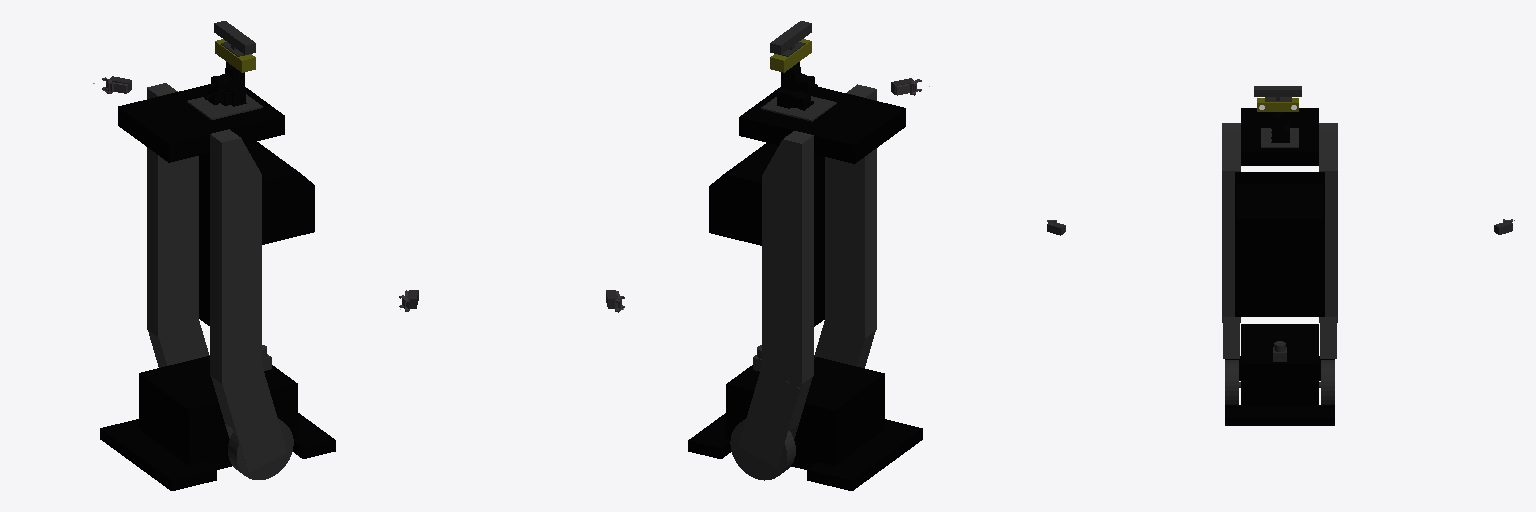
--- Facts derived from the render (not from the file) ---
The picture shows the robot from 3 angles, left to right: view 1: azimuth 30°, elevation 25°; view 2: azimuth 150°, elevation 25°; view 3: azimuth 270°, elevation 25°; orthographic projection.
Robot: phoebe — 38 links, 37 joints (16 revolute, 2 continuous, 4 prismatic, 15 fixed); root link base_link; default pose: every joint at zero.
Links seen in each view (by area): view 1: base_link, wheel_right, xtion_link, ptu_base_plate_link, bumblebee_link, ptu_tilt_link, ptu_pan_link; view 2: base_link, wheel_left, xtion_link, ptu_base_plate_link, bumblebee_link, ptu_tilt_link, ptu_pan_link; view 3: base_link, xtion_link, wheel_left, wheel_right.
Link boxes in pixels (x1,y1,x2,y2): base_link: (100, 83, 335, 490); wheel_right: (228, 419, 293, 479); xtion_link: (214, 21, 255, 56); ptu_base_plate_link: (187, 94, 262, 119); bumblebee_link: (215, 39, 255, 72); ptu_tilt_link: (208, 65, 244, 94); ptu_pan_link: (204, 87, 246, 106); base_link: (688, 84, 922, 490); wheel_left: (730, 419, 795, 480); xtion_link: (770, 21, 811, 56); ptu_base_plate_link: (761, 96, 836, 121); bumblebee_link: (770, 39, 811, 72); ptu_tilt_link: (781, 64, 817, 93); ptu_pan_link: (777, 88, 813, 110); base_link: (1222, 108, 1337, 425); xtion_link: (1254, 86, 1301, 101); wheel_left: (1321, 360, 1334, 404); wheel_right: (1225, 360, 1238, 404).
Bounding box of the posed robot: 0.546 × 1.77 × 1.33 m (x, y, z).
Meshes: 15 distinct files referenced, 6 mesh visuals loaded (5 Collada DAE); not drawn: 20 (reference not matched to a file when rendering).

The robot description file, URDF, robot "phoebe":
<?xml version="1.0" ?>
<!-- =================================================================================== -->
<!-- |    This document was autogenerated by xacro from [local-path]/catkin_ws/src/phoebe_stack/phoebe_description/phoebe.urdf.xacro | -->
<!-- |    EDITING THIS FILE BY HAND IS NOT RECOMMENDED                                 | -->
<!-- =================================================================================== -->
<robot name="phoebe" xmlns:xacro="http://www.ros.org/wiki/xacro">
  
  <link name="base_link">
    <inertial>
      <origin rpy="0 0 0" xyz="-0.04 0 0.56"/>
      <mass value="12"/>
      <!-- inretia tensor for solid cuboid: m=12, h=1.12, d=0.49, w=0.41 -->
      <inertia ixx="1.4225" ixy="0" ixz="0" iyy="1.4945" iyz="0" izz="0.4082"/>
    </inertial>
    <visual>
      <origin rpy="0 0 0" xyz="0 0 0"/>
      <geometry>
        <mesh filename="package://phoebe_description/meshes/phoebe.dae"/>
      </geometry>
    </visual>
    <collision>
      <origin rpy="0 0 0" xyz="0 0 0"/>
      <geometry>
        <mesh filename="package://phoebe_description/meshes/phoebe.dae"/>
      </geometry>
    </collision>
  </link>

  <joint name="wheel_left_joint" type="continuous">
    <parent link="base_link"/>
    <child link="wheel_left"/>
    <origin rpy="1.570796 0 0" xyz="0.0 0.18 0.095"/>
    <axis xyz="0 0 1"/>
  </joint>
  <link name="wheel_left">
    <inertial>
      <origin rpy="0 0 0" xyz="0.0 0 0"/>
      <mass value="0.5"/>
      <!-- inretia tensor for solid cylinder: m=0.5, h=0.05, r=0.095 -->
      <inertia ixx="1.232291667e-03" ixy="0" ixz="0" iyy="1.232291667e-03" iyz="0" izz="2.25625e-03"/>
    </inertial>
    <visual>
      <origin rpy="0 0 0" xyz="0 0 0"/>
      <geometry>
        <cylinder length="0.05" radius="0.095"/>
      </geometry>
      <material name="blackish">
        <color rgba="0.2 0.2 0.2 1"/>
      </material>
    </visual>
    <collision>
      <origin rpy="0 0 0" xyz="0 0 0"/>
      <geometry>
        <cylinder length="0.05" radius="0.095"/>
      </geometry>
    </collision>
  </link>
  
  <joint name="wheel_right_joint" type="continuous">
    <parent link="base_link"/>
    <child link="wheel_right"/>
    <origin rpy="1.570796 0 0" xyz="0.0 -0.18 0.095"/>
    <axis xyz="0 0 1"/>
  </joint>
  <link name="wheel_right">
    <inertial>
      <origin rpy="0 0 0" xyz="0.0 0 0"/>
      <mass value="0.5"/>
      <!-- inretia tensor for solid cylinder: m=0.5, h=0.05, r=0.095 -->
      <inertia ixx="1.232291667e-03" ixy="0" ixz="0" iyy="1.232291667e-03" iyz="0" izz="2.25625e-03"/>
    </inertial>
    <visual>
      <origin rpy="0 0 0" xyz="0 0 0"/>
      <geometry>
        <cylinder length="0.05" radius="0.095"/>
      </geometry>
      <material name="blackish"/>
    </visual>
    <collision>
      <origin rpy="0 0 0" xyz="0 0 0"/>
      <geometry>
        <cylinder length="0.05" radius="0.095"/>
      </geometry>
    </collision>
  </link>

  <!-- Cyton Gamma 1500 models -->

  <!-- Right arm -->
	
  <joint name="right_arm_joint" type="fixed">
    <parent link="base_link"/>
    <child link="right_arm_base_link"/>
    <origin rpy="1.5708 -1.5708 0" xyz="0.067 -0.162 0.8"/>
  </joint>
  <link name="right_arm_base_link">
    <inertial>
      <origin rpy="0 0 0" xyz="0.0 0 0"/>
      <mass value="0.478571"/>
      <!-- inretia tensor for solid cuboid: m=0.478571, w=0.177, h=0.074, d=0.150 -->
      <inertia ixx="1.47e-03" ixy="0" ixz="0" iyy="2.15e-03" iyz="0" izz="1.12e-03"/>
    </inertial>
    <visual>
      <origin rpy="0 0 0" xyz="0 0 0"/>
      <geometry>
        <mesh filename="package://cyton_gamma_1500_description/meshes/base.dae"/>
      </geometry>
    </visual>
    <collision>
      <origin xyz="0 0.0115 0.047"/>
      <geometry>
        <box size="0.154 0.177 0.094"/>
      </geometry>
    </collision>
  </link>

  <joint name="right_arm_shoulder_roll_joint" type="revolute">
    <parent link="right_arm_base_link"/>
    <child link="right_arm_shoulder_roll"/>
    <origin rpy="0 0 0" xyz="0 0 0.05315"/>
    <limit effort="100.0" lower="-2.618" upper="2.618" velocity="1.0"/>
    <axis xyz="0 0 1"/>
  </joint>
  <link name="right_arm_shoulder_roll">
    <inertial>
      <origin rpy="0 0 0" xyz="0 0 0.12"/>
      <mass value="0.468571"/>
      <!-- inretia tensor for solid cylinder: m=0.468571, h=0.09248, r=0.044737 -->
      <inertia ixx="4.7e-04" ixy="0" ixz="0" iyy="5.7e-04" iyz="0" izz="5.7e-04"/>
    </inertial>
    <visual>
      <origin rpy="1.5708 0 0.384" xyz="0 0 0"/>
      <geometry>
        <mesh filename="package://cyton_gamma_1500_description/meshes/shoulder_roll.dae"/>
      </geometry>
    </visual>
    <collision>
      <origin xyz="0.0 0.069 0.0587"/>
      <geometry>
        <box size="0.09829 0.18143 0.08392"/>
      </geometry>
    </collision>
  </link>

  <joint name="right_arm_shoulder_pitch_joint" type="revolute">
    <parent link="right_arm_shoulder_roll"/>
    <child link="right_arm_shoulder_pitch"/>
    <origin rpy="0 0 0" xyz="0.0205 0 0.12435"/>
    <limit effort="100.0" lower="-1.8326" upper="1.8326" velocity="1.0"/>
    <axis xyz="1 0 0"/>
  </joint>
  <link name="right_arm_shoulder_pitch">
    <inertial>
      <origin rpy="0 0 0" xyz="-0.0214 0 0.117"/>
      <mass value="0.4285714"/>
      <!-- inretia tensor for solid cylinder: m=0.4285714, h=0.09248, r=0.04204 -->
      <inertia ixx="4.9e-04" ixy="0" ixz="0" iyy="3.8e-04" iyz="0" izz="4.9e-04"/>
    </inertial>
    <visual>
      <origin rpy="1.5708 0 0" xyz="0 0 0"/>
      <geometry>
        <mesh filename="package://cyton_gamma_1500_description/meshes/shoulder_pitch.dae"/>
      </geometry>
    </visual>
    <collision>
      <origin xyz="-0.001 0.064 0.1745"/>
      <geometry>
        <box size="0.0709 0.19363 0.083"/>
      </geometry>
    </collision>
  </link>

  <joint name="right_arm_shoulder_yaw_joint" type="revolute">
    <parent link="right_arm_shoulder_pitch"/>
    <child link="right_arm_shoulder_yaw"/>
    <origin rpy="0 0 0" xyz="-0.0215 -0.0205 0.1255"/>
    <limit effort="100.0" lower="-1.8326" upper="1.8326" velocity="1.0"/>
    <axis xyz="0 -1 0"/>
  </joint>
  <link name="right_arm_shoulder_yaw">
    <inertial>
      <origin rpy="0 0 0" xyz="-0.002 0.021 0.1135"/>
      <mass value="0.408571"/>
      <!-- inretia tensor for solid cylinder: m=0.408571, h=0.084081, r=0.036785 -->
      <inertia ixx="2.8e-04" ixy="0" ixz="0" iyy="3.8e-04" iyz="0" izz="3.8e-04"/>
    </inertial>
    <visual>
      <origin rpy="1.5708 0 -1.5708" xyz="0 0 0.0"/>
      <geometry>
        <mesh filename="package://cyton_gamma_1500_description/meshes/shoulder_yaw.dae"/>
      </geometry>
    </visual>
    <collision>
      <origin xyz="-0.0225 0.039 0.3068"/>
      <geometry>
        <box size="0.0717 0.1846 0.0756"/>
      </geometry>
    </collision>
  </link>

  <joint name="right_arm_elbow_pitch_joint" type="revolute">
    <parent link="right_arm_shoulder_yaw"/>
    <child link="right_arm_elbow_pitch"/>
    <origin rpy="0 0 0" xyz="0.018 0.0206 0.1158"/>
    <limit effort="100.0" lower="-1.8326" upper="1.8326" velocity="1.0"/>
    <axis xyz="1 0 0"/>
  </joint>
  <link name="right_arm_elbow_pitch">
    <inertial>
      <origin rpy="0 0 0" xyz="-0.0176 0.001 0.095"/>
      <mass value="0.388671"/>
      <!-- inretia tensor for solid cylinder: m=0.388671, h=0.06705, r=0.028975 -->
      <inertia ixx="2.3e-04" ixy="0" ixz="0" iyy="1.6e-04" iyz="0" izz="2.3e-04"/>
    </inertial>
    <visual>
      <origin rpy="1.5708 0 3.1416" xyz="0 0 0"/>
      <geometry>
        <mesh filename="package://cyton_gamma_1500_description/meshes/elbow_pitch.dae"/>
      </geometry>
    </visual>
    <collision>
      <origin xyz="0.0346 0.0461 0.4228"/>
      <geometry>
        <box size="0.0549 0.1557 0.076"/>
      </geometry>
    </collision>
  </link>

  <joint name="right_arm_elbow_yaw_joint" type="revolute">
    <parent link="right_arm_elbow_pitch"/>
    <child link="right_arm_elbow_yaw"/>
    <origin rpy="0 0 0" xyz="-0.0171 -0.018 0.09746"/>
    <limit effort="100.0" lower="-1.8326" upper="1.8326" velocity="1.0"/>
    <axis xyz="0 -1 0"/>
  </joint>
  <link name="right_arm_elbow_yaw">
    <inertial>
      <origin rpy="0 0 0" xyz="0 0.018 0.073"/>
      <mass value="0.368871"/>
      <!-- inretia tensor for solid cylinder: m=0.368871, h=0.043602, r=0.024071 -->
      <inertia ixx="1.0686e-04" ixy="0" ixz="0" iyy="1.1187e-04" iyz="0" izz="1.1187e-04"/>
    </inertial>
    <visual>
      <origin rpy="1.5708 0 1.5708" xyz="0 0 0"/>
      <geometry>
        <mesh filename="package://cyton_gamma_1500_description/meshes/elbow_yaw.dae"/>
      </geometry>
    </visual>
    <collision>
      <origin xyz="0.0172 0.0209 0.516"/>
      <geometry>
        <box size="0.0535 0.1160 0.0402"/>
      </geometry>
    </collision>
  </link>

  <joint name="right_arm_wrist_pitch_joint" type="revolute">
    <parent link="right_arm_elbow_yaw"/>
    <child link="right_arm_wrist_pitch"/>
    <origin rpy="0 0 0" xyz="0.02626 0.018 0.0718"/>
    <limit effort="100.0" lower="-1.8326" upper="1.8326" velocity="1.0"/>
    <axis xyz="-1 0 0"/>
  </joint>
  <link name="right_arm_wrist_pitch">
    <inertial>
      <origin rpy="0 0 0" xyz="-0.027 -0.0005 0.028"/>
      <mass value="0.008"/>
      <!-- inretia tensor for solid cuboid: m=0.008, h=0.045602, w=0.0218, d=0.005 -->
      <inertia ixx="3.3349e-07" ixy="0" ixz="0" iyy="1.403e-06" iyz="0" izz="1.70319e-06"/>
    </inertial>
    <visual>
      <origin rpy="1.5708 0 1.5708" xyz="0 0 0"/>
      <geometry>
        <mesh filename="package://cyton_gamma_1500_description/meshes/wrist_pitch.dae"/>
      </geometry>
    </visual>
    <collision>
      <origin xyz="0.0257 0.0118 0.5617"/>
      <geometry>
        <box size="0.026 0.0435 0.05185"/>
      </geometry>
    </collision>
  </link>  

  <joint name="right_arm_wrist_roll_joint" type="revolute">
    <parent link="right_arm_wrist_pitch"/>
    <child link="right_arm_wrist_roll"/>
    <origin rpy="0 0 0" xyz="-0.026255 0 0.051425"/>
    <limit effort="100.0" lower="-2.61799" upper="2.61799" velocity="1.0"/>
    <axis xyz="0 0 1"/>
  </joint>
  <link name="right_arm_wrist_roll">
    <inertial>
      <origin rpy="0 0 0" xyz="0 0 0.029"/>
      <mass value="0.38"/>
      <!-- inretia tensor for solid cylinder: m=0.38, h=0.095, r=0.027975 -->
      <inertia ixx="3.6e-04" ixy="0" ixz="0" iyy="3.6e-04" iyz="0" izz="1.487e-04"/>
    </inertial>
    <visual>
      <origin rpy="3.1416 0 -1.5708" xyz="0 0 0"/>
      <geometry>
        <mesh filename="package://cyton_gamma_1500_description/meshes/wrist_roll.dae"/>
      </geometry>
    </visual>
    <collision>
      <origin xyz="-0.0063 -0.0014 0.6102"/>
      <geometry>
        <box size="0.0518 0.0723 0.1004"/>
      </geometry>
    </collision>
  </link>

  <joint name="right_arm_gripper_joint" type="prismatic">
    <parent link="right_arm_wrist_roll"/>
    <child link="right_arm_gripper_finger1"/>
    <origin rpy="0 0 0" xyz="-0.01331 0.00485 0.077225"/>
    <limit effort="100.0" lower="-0.008" upper="0.008" velocity="1.0"/>
    <axis xyz="1 0 0"/>
  </joint>
  <link name="right_arm_gripper_finger1">
    <inertial>
      <origin rpy="0 0 0" xyz="-0.0036 0.0096 0.017"/>
      <mass value="0.035"/>
      <!-- inretia tensor for solid cuboid: m=0.035, h=0.0323, w=0.01469, d=0.0224 -->
      <inertia ixx="4.5064e-06" ixy="0" ixz="0" iyy="3.6723e-06" iyz="0" izz="2.0929e-06"/>
    </inertial>
    <visual>
      <origin rpy="0 0 0" xyz="0 0 0"/>
      <geometry>
        <mesh filename="package://cyton_gamma_1500_description/meshes/gripper_finger1.dae"/>
      </geometry>
    </visual>
    <collision>
      <origin xyz="-0.0167 0.0172 0.7254"/>
      <geometry>
        <box size="0.015 0.0229 0.0475"/>
      </geometry>
    </collision>
  </link>

  <joint name="right_arm_gripper_joint2" type="prismatic">
    <parent link="right_arm_wrist_roll"/>
    <child link="right_arm_gripper_finger2"/>
    <origin rpy="0 0 0" xyz="0.0098 0.00485 0.077225"/>
    <limit effort="100.0" lower="-0.008" upper="0.008" velocity="1.0"/>
    <mimic joint="right_arm_gripper_joint" multiplier="-1"/>
    <axis xyz="1 0 0"/>
  </joint>
  <link name="right_arm_gripper_finger2">
    <inertial>
      <origin rpy="0 0 0" xyz="0.0034 0.0096 0.017"/>
      <mass value="0.035"/>
      <!-- inretia tensor for solid cuboid: m=0.035, h=0.0323, w=0.01469, d=0.0224 -->
      <inertia ixx="4.5064e-06" ixy="0" ixz="0" iyy="3.6723e-06" iyz="0" izz="2.0929e-06"/>
    </inertial>
    <visual>
      <origin rpy="0 0 0" xyz="0 0 0"/>
      <geometry>
        <mesh filename="package://cyton_gamma_1500_description/meshes/gripper_finger2.dae"/>
      </geometry>
    </visual>
    <collision>
      <origin xyz="0.0132 0.0172 0.7254"/>
      <geometry>
        <box size="0.015 0.0229 0.0475"/>
      </geometry>
    </collision>
  </link>

  <!-- virtual end-effector -->

  <joint name="right_arm_virtual_endeffector_joint" type="fixed">
    <parent link="right_arm_wrist_roll"/>
    <child link="right_arm_virtual_endeffector"/>
    <origin rpy="0 0 0" xyz="-0.002316 0.0079 0.079425"/>
  </joint>
  <link name="right_arm_virtual_endeffector">
    <inertial>
      <origin rpy="0 0 0" xyz="0 0 0"/>
      <mass value="0.0016"/>
      <!-- inretia tensor for solid sphere: m=0.0016, r=0.0022 -->
      <inertia ixx="3.0976e-09" ixy="0" ixz="0" iyy="3.0976e-09" iyz="0" izz="3.0976e-09"/>
    </inertial>
    <visual>
      <origin rpy="0 0 0" xyz="0 0 0"/>
      <geometry>
        <sphere radius="0.002"/>
      </geometry>
      <material name="grey">
        <color rgba="0.7 0.7 0.7 0.8"/>
      </material>
    </visual>
  </link>

  <joint name="right_arm_camera_bracket_joint" type="fixed">
    <parent link="right_arm_wrist_roll"/>
    <child link="right_arm_camera_bracket"/>
    <origin rpy="0 0 0" xyz="-0.0008 -0.028 0.0435"/>
  </joint>
  <link name="right_arm_camera_bracket">
    <inertial>
      <origin rpy="0.95 0 0" xyz="0 -0.01 -0.012"/>
      <mass value="0.052"/>
      <!-- inretia tensor for solid cuboid: m=0.052, h=0.071, w=0.028, d=0.0086 -->
      <inertia ixx="2.2165e-05" ixy="0" ixz="0" iyy="3.7178e-06" iyz="0" izz="2.5242e-05"/>
    </inertial>
    <visual>
      <origin rpy="0 0 0" xyz="0 0 0"/>
      <geometry>
        <mesh filename="package://cyton_gamma_1500_minicam_description/meshes/cam_bracket.dae"/>
      </geometry>
    </visual>
    <!--collision>
        <origin xyz="0.0 0.0 0.0"/>
        <geometry>
          <box size="0.03512 0.04821 0.07179"/>
        </geometry>
      </collision-->
  </link>

  <joint name="right_arm_camera_joint" type="fixed">
    <parent link="right_arm_camera_bracket"/>
    <child link="right_arm_camera"/>
    <origin rpy="-0.625 0 0" xyz="0.0 -0.028 -0.005"/>
  </joint>
  <link name="right_arm_camera">
    <inertial>
      <origin rpy="0 0 0" xyz="0 0 0"/>
      <mass value="0.085"/>
      <!-- inretia tensor for solid cuboid: m=0.085, h=0.065, w=0.024, d=0.024 -->
      <inertia ixx="3.4007e-05" ixy="0" ixz="0" iyy="3.4007e-05" iyz="0" izz="8.16e-06"/>
    </inertial>
    <visual>
      <origin rpy="0 0 0" xyz="0 0 0"/>
      <geometry>
        <box size="0.031 0.028 0.063"/>
      </geometry>
      <material name="blackish">
        <color rgba="0.2 0.2 0.2 1"/>
      </material>
    </visual>
    <collision>
      <origin rpy="0 0 0" xyz="0 0 0"/>
      <geometry>
        <box size="0.036 0.045 0.063"/>
      </geometry>
    </collision>
  </link>

  <!-- Left arm -->

  <joint name="left_arm_joint" type="fixed">
    <parent link="base_link"/>
    <child link="left_arm_base_link"/>
    <origin rpy="-1.5708 1.5708 0" xyz="0.067 0.162 0.8"/>
  </joint>
  <link name="left_arm_base_link">
    <inertial>
      <origin rpy="0 0 0" xyz="0.0 0 0"/>
      <mass value="0.478571"/>
      <!-- inretia tensor for solid cuboid: m=0.478571, w=0.177, h=0.074, d=0.150 -->
      <inertia ixx="1.47e-03" ixy="0" ixz="0" iyy="2.15e-03" iyz="0" izz="1.12e-03"/>
    </inertial>
    <visual>
      <origin rpy="0 0 0" xyz="0 0 0"/>
      <geometry>
        <mesh filename="package://cyton_gamma_1500_description/meshes/base.dae"/>
      </geometry>
    </visual>
    <collision>
      <origin xyz="0 0.0115 0.047"/>
      <geometry>
        <box size="0.154 0.177 0.094"/>
      </geometry>
    </collision>
  </link>

  <joint name="left_arm_shoulder_roll_joint" type="revolute">
    <parent link="left_arm_base_link"/>
    <child link="left_arm_shoulder_roll"/>
    <origin rpy="0 0 0" xyz="0 0 0.05315"/>
    <limit effort="100.0" lower="-2.618" upper="2.618" velocity="1.0"/>
    <axis xyz="0 0 1"/>
  </joint>
  <link name="left_arm_shoulder_roll">
    <inertial>
      <origin rpy="0 0 0" xyz="0 0 0.12"/>
      <mass value="0.468571"/>
      <!-- inretia tensor for solid cylinder: m=0.468571, h=0.09248, r=0.044737 -->
      <inertia ixx="4.7e-04" ixy="0" ixz="0" iyy="5.7e-04" iyz="0" izz="5.7e-04"/>
    </inertial>
    <visual>
      <origin rpy="1.5708 0 0.384" xyz="0 0 0"/>
      <geometry>
        <mesh filename="package://cyton_gamma_1500_description/meshes/shoulder_roll.dae"/>
      </geometry>
    </visual>
    <collision>
      <origin xyz="0.0 0.069 0.0587"/>
      <geometry>
        <box size="0.09829 0.18143 0.08392"/>
      </geometry>
    </collision>
  </link> 

  <joint name="left_arm_shoulder_pitch_joint" type="revolute">
    <parent link="left_arm_shoulder_roll"/>
    <child link="left_arm_shoulder_pitch"/>
    <origin rpy="0 0 0" xyz="0.0205 0 0.12435"/>
    <limit effort="100.0" lower="-1.8326" upper="1.8326" velocity="1.0"/>
    <axis xyz="1 0 0"/>
  </joint>
  <link name="left_arm_shoulder_pitch">
    <inertial>
      <origin rpy="0 0 0" xyz="-0.0214 0 0.117"/>
      <mass value="0.4285714"/>
      <!-- inretia tensor for solid cylinder: m=0.4285714, h=0.09248, r=0.04204 -->
      <inertia ixx="4.9e-04" ixy="0" ixz="0" iyy="3.8e-04" iyz="0" izz="4.9e-04"/>
    </inertial>
    <visual>
      <origin rpy="1.5708 0 0" xyz="0 0 0"/>
      <geometry>
        <mesh filename="package://cyton_gamma_1500_description/meshes/shoulder_pitch.dae"/>
      </geometry>
    </visual>
    <collision>
      <origin xyz="-0.001 0.064 0.1745"/>
      <geometry>
        <box size="0.0709 0.19363 0.083"/>
      </geometry>
    </collision>
  </link>

  <joint name="left_arm_shoulder_yaw_joint" type="revolute">
    <parent link="left_arm_shoulder_pitch"/>
    <child link="left_arm_shoulder_yaw"/>
    <origin rpy="0 0 0" xyz="-0.0215 -0.0205 0.1255"/>
    <limit effort="100.0" lower="-1.8326" upper="1.8326" velocity="1.0"/>
    <axis xyz="0 -1 0"/>
  </joint>
  <link name="left_arm_shoulder_yaw">
    <inertial>
      <origin rpy="0 0 0" xyz="-0.002 0.021 0.1135"/>
      <mass value="0.408571"/>
      <!-- inretia tensor for solid cylinder: m=0.408571, h=0.084081, r=0.036785 -->
      <inertia ixx="2.8e-04" ixy="0" ixz="0" iyy="3.8e-04" iyz="0" izz="3.8e-04"/>
    </inertial>
    <visual>
      <origin rpy="1.5708 0 -1.5708" xyz="0 0 0.0"/>
      <geometry>
        <mesh filename="package://cyton_gamma_1500_description/meshes/shoulder_yaw.dae"/>
      </geometry>
    </visual>
    <collision>
      <origin xyz="-0.0225 0.039 0.3068"/>
      <geometry>
        <box size="0.0717 0.1846 0.0756"/>
      </geometry>
    </collision>
  </link>

  <joint name="left_arm_elbow_pitch_joint" type="revolute">
    <parent link="left_arm_shoulder_yaw"/>
    <child link="left_arm_elbow_pitch"/>
    <origin rpy="0 0 0" xyz="0.018 0.0206 0.1158"/>
    <limit effort="100.0" lower="-1.8326" upper="1.8326" velocity="1.0"/>
    <axis xyz="1 0 0"/>
  </joint>
  <link name="left_arm_elbow_pitch">
    <inertial>
      <origin rpy="0 0 0" xyz="-0.0176 0.001 0.095"/>
      <mass value="0.388671"/>
      <!-- inretia tensor for solid cylinder: m=0.388671, h=0.06705, r=0.028975 -->
      <inertia ixx="2.3e-04" ixy="0" ixz="0" iyy="1.6e-04" iyz="0" izz="2.3e-04"/>
    </inertial>
    <visual>
      <origin rpy="1.5708 0 3.1416" xyz="0 0 0"/>
      <geometry>
        <mesh filename="package://cyton_gamma_1500_description/meshes/elbow_pitch.dae"/>
      </geometry>
    </visual>
    <collision>
      <origin xyz="0.0346 0.0461 0.4228"/>
      <geometry>
        <box size="0.0549 0.1557 0.076"/>
      </geometry>
    </collision>
  </link>

  <joint name="left_arm_elbow_yaw_joint" type="revolute">
    <parent link="left_arm_elbow_pitch"/>
    <child link="left_arm_elbow_yaw"/>
    <origin rpy="0 0 0" xyz="-0.0171 -0.018 0.09746"/>
    <limit effort="100.0" lower="-1.8326" upper="1.8326" velocity="1.0"/>
    <axis xyz="0 -1 0"/>
  </joint>
  <link name="left_arm_elbow_yaw">
    <inertial>
      <origin rpy="0 0 0" xyz="0 0.018 0.073"/>
      <mass value="0.368871"/>
      <!-- inretia tensor for solid cylinder: m=0.368871, h=0.043602, r=0.024071 -->
      <inertia ixx="1.0686e-04" ixy="0" ixz="0" iyy="1.1187e-04" iyz="0" izz="1.1187e-04"/>
    </inertial>
    <visual>
      <origin rpy="1.5708 0 1.5708" xyz="0 0 0"/>
      <geometry>
        <mesh filename="package://cyton_gamma_1500_description/meshes/elbow_yaw.dae"/>
      </geometry>
    </visual>
    <collision>
      <origin xyz="0.0172 0.0209 0.516"/>
      <geometry>
        <box size="0.0535 0.1160 0.0402"/>
      </geometry>
    </collision>
  </link>

  <joint name="left_arm_wrist_pitch_joint" type="revolute">
    <parent link="left_arm_elbow_yaw"/>
    <child link="left_arm_wrist_pitch"/>
    <origin rpy="0 0 0" xyz="0.02626 0.018 0.0718"/>
    <limit effort="100.0" lower="-1.8326" upper="1.8326" velocity="1.0"/>
    <axis xyz="-1 0 0"/>
  </joint>
  <link name="left_arm_wrist_pitch">
    <inertial>
      <origin rpy="0 0 0" xyz="-0.027 -0.0005 0.028"/>
      <mass value="0.008"/>
      <!-- inretia tensor for solid cuboid: m=0.008, h=0.045602, w=0.0218, d=0.005 -->
      <inertia ixx="3.3349e-07" ixy="0" ixz="0" iyy="1.403e-06" iyz="0" izz="1.70319e-06"/>
    </inertial>
    <visual>
      <origin rpy="1.5708 0 1.5708" xyz="0 0 0"/>
      <geometry>
        <mesh filename="package://cyton_gamma_1500_description/meshes/wrist_pitch.dae"/>
      </geometry>
    </visual>
    <collision>
      <origin xyz="0.0257 0.0118 0.5617"/>
      <geometry>
        <box size="0.026 0.0435 0.05185"/>
      </geometry>
    </collision>
  </link>

  <joint name="left_arm_wrist_roll_joint" type="revolute">
    <parent link="left_arm_wrist_pitch"/>
    <child link="left_arm_wrist_roll"/>
    <origin rpy="0 0 0" xyz="-0.026255 0 0.051425"/>
    <limit effort="100.0" lower="-2.61799" upper="2.61799" velocity="1.0"/>
    <axis xyz="0 0 1"/>
  </joint>
  <link name="left_arm_wrist_roll">
    <inertial>
      <origin rpy="0 0 0" xyz="0 0 0.029"/>
      <mass value="0.38"/>
      <!-- inretia tensor for solid cylinder: m=0.38, h=0.095, r=0.027975 -->
      <inertia ixx="3.6e-04" ixy="0" ixz="0" iyy="3.6e-04" iyz="0" izz="1.487e-04"/>
    </inertial>
    <visual>
      <origin rpy="3.1416 0 -1.5708" xyz="0 0 0"/>
      <geometry>
        <mesh filename="package://cyton_gamma_1500_description/meshes/wrist_roll.dae"/>
      </geometry>
    </visual>
    <collision>
      <origin xyz="-0.0063 -0.0014 0.6102"/>
      <geometry>
        <box size="0.0518 0.0723 0.1004"/>
      </geometry>
    </collision>
  </link>

  <joint name="left_arm_gripper_joint" type="prismatic">
    <parent link="left_arm_wrist_roll"/>
    <child link="left_arm_gripper_finger1"/>
    <origin rpy="0 0 0" xyz="-0.01331 0.00485 0.077225"/>
    <limit effort="100.0" lower="-0.008" upper="0.008" velocity="1.0"/>
    <axis xyz="1 0 0"/>
  </joint>
  <link name="left_arm_gripper_finger1">
    <inertial>
      <origin rpy="0 0 0" xyz="-0.0036 0.0096 0.017"/>
      <mass value="0.035"/>
      <!-- inretia tensor for solid cuboid: m=0.035, h=0.0323, w=0.01469, d=0.0224 -->
      <inertia ixx="4.5064e-06" ixy="0" ixz="0" iyy="3.6723e-06" iyz="0" izz="2.0929e-06"/>
    </inertial>
    <visual>
      <origin rpy="0 0 0" xyz="0 0 0"/>
      <geometry>
        <mesh filename="package://cyton_gamma_1500_description/meshes/gripper_finger1.dae"/>
      </geometry>
    </visual>
    <collision>
      <origin xyz="-0.0167 0.0172 0.7254"/>
      <geometry>
        <box size="0.015 0.0229 0.0475"/>
      </geometry>
    </collision>
  </link>

  <joint name="left_arm_gripper_joint2" type="prismatic">
    <parent link="left_arm_wrist_roll"/>
    <child link="left_arm_gripper_finger2"/>
    <origin rpy="0 0 0" xyz="0.0098 0.00485 0.077225"/>
    <limit effort="100.0" lower="-0.008" upper="0.008" velocity="1.0"/>
    <mimic joint="left_arm_gripper_joint" multiplier="-1"/>
    <axis xyz="1 0 0"/>
  </joint>
  <link name="left_arm_gripper_finger2">
    <inertial>
      <origin rpy="0 0 0" xyz="0.0034 0.0096 0.017"/>
      <mass value="0.035"/>
      <!-- inretia tensor for solid cuboid: m=0.035, h=0.0323, w=0.01469, d=0.0224 -->
      <inertia ixx="4.5064e-06" ixy="0" ixz="0" iyy="3.6723e-06" iyz="0" izz="2.0929e-06"/>
    </inertial>
    <visual>
      <origin rpy="0 0 0" xyz="0 0 0"/>
      <geometry>
        <mesh filename="package://cyton_gamma_1500_description/meshes/gripper_finger2.dae"/>
      </geometry>
    </visual>
    <collision>
      <origin xyz="0.0132 0.0172 0.7254"/>
      <geometry>
        <box size="0.015 0.0229 0.0475"/>
      </geometry>
    </collision>
  </link>

  <!-- virtual end-effector -->

  <joint name="left_arm_virtual_endeffector_joint" type="fixed">
    <parent link="left_arm_wrist_roll"/>
    <child link="left_arm_virtual_endeffector"/>
    <origin rpy="0 0 0" xyz="-0.002316 0.0079 0.079425"/>
  </joint>
  <link name="left_arm_virtual_endeffector">
    <inertial>
      <origin rpy="0 0 0" xyz="0 0 0"/>
      <mass value="0.0016"/>
      <!-- inretia tensor for solid sphere: m=0.0016, r=0.0022 -->
      <inertia ixx="3.0976e-09" ixy="0" ixz="0" iyy="3.0976e-09" iyz="0" izz="3.0976e-09"/>
    </inertial>
    <visual>
      <origin rpy="0 0 0" xyz="0 0 0"/>
      <geometry>
        <sphere radius="0.002"/>
      </geometry>
      <material name="grey">
        <color rgba="0.7 0.7 0.7 0.8"/>
      </material>
    </visual>
  </link>

  <joint name="left_arm_camera_bracket_joint" type="fixed">
    <parent link="left_arm_wrist_roll"/>
    <child link="left_arm_camera_bracket"/>
    <origin rpy="0 0 0" xyz="-0.0008 -0.028 0.0435"/>
  </joint>
  <link name="left_arm_camera_bracket">
    <inertial>
      <origin rpy="0.95 0 0" xyz="0 -0.01 -0.012"/>
      <mass value="0.052"/>
      <!-- inretia tensor for solid cuboid: m=0.052, h=0.071, w=0.028, d=0.0086 -->
      <inertia ixx="2.2165e-05" ixy="0" ixz="0" iyy="3.7178e-06" iyz="0" izz="2.5242e-05"/>
    </inertial>
    <visual>
      <origin rpy="0 0 0" xyz="0 0 0"/>
      <geometry>
        <mesh filename="package://cyton_gamma_1500_minicam_description/meshes/cam_bracket.dae"/>
      </geometry>
    </visual>
    <!--collision>
        <origin xyz="0.0 0.0 0.0"/>
        <geometry>
          <box size="0.03512 0.04821 0.07179"/>
        </geometry>
      </collision-->
  </link>

  <joint name="left_arm_camera_joint" type="fixed">
    <parent link="left_arm_camera_bracket"/>
    <child link="left_arm_camera"/>
    <origin rpy="-0.625 0 0" xyz="0.0 -0.028 -0.005"/>
  </joint>
  <link name="left_arm_camera">
    <inertial>
      <origin rpy="0 0 0" xyz="0 0 0"/>
      <mass value="0.085"/>
      <!-- inretia tensor for solid cuboid: m=0.085, h=0.065, w=0.024, d=0.024 -->
      <inertia ixx="3.4007e-05" ixy="0" ixz="0" iyy="3.4007e-05" iyz="0" izz="8.16e-06"/>
    </inertial>
    <visual>
      <origin rpy="0 0 0" xyz="0 0 0"/>
      <geometry>
        <box size="0.031 0.028 0.063"/>
      </geometry>
      <material name="blackish">
        <color rgba="0.2 0.2 0.2 1"/>
      </material>
    </visual>
    <collision>
      <origin rpy="0 0 0" xyz="0 0 0"/>
      <geometry>
        <box size="0.036 0.045 0.063"/>
      </geometry>
    </collision>
  </link>

  <!-- PTU -->

  <joint name="ptu_joint" type="fixed">
    <parent link="base_link"/>
    <child link="ptu_base_plate_link"/>
    <origin rpy="0 0 0" xyz="0.02 0 1.1075"/>
  </joint>
  <link name="ptu_base_plate_link">
    <inertial>
      <origin rpy="0 0 0" xyz="-0.034 0 0"/>
      <mass value="0.07"/>
      <!-- inretia tensor for solid cuboid: m=0.07, h=0.005, w=0.142, d=0.17 -->
      <inertia ixx="1.1777e-04" ixy="0" ixz="0" iyy="1.6873e-04" iyz="0" izz="2.8621e-04"/>
    </inertial>
    <visual>
      <origin rpy="0 0 0" xyz="-0.035 0 0.0025"/>
      <geometry>
        <box size="0.17 0.142 0.005"/>
      </geometry>
      <material name="black">
        <color rgba="0.2 0.2 0.2 1"/>
      </material>
    </visual>
  </link>

  <joint name="ptu_base_plate_joint" type="fixed">
    <parent link="ptu_base_plate_link"/>
    <child link="ptu_base_link"/>
    <origin rpy="0 0 0" xyz="0.0 0.0 0.0"/>
  </joint>
  <link name="ptu_base_link">
  </link>

  <joint name="ptu_base_joint" type="fixed">
    <parent link="ptu_base_link"/>
    <child link="ptu_pan_link"/>
    <origin rpy="0 0 0" xyz="0.0 0 0.005"/>
  </joint>
  <link name="ptu_pan_link">
    <inertial>
      <origin rpy="0 0 0" xyz="0 0 0.06"/>
      <mass value="0.13"/>
      <!-- inretia tensor for solid cuboid: m=0.13, h=0.07, w=0.046, d=0.105 -->
      <inertia ixx="7.6006e-05" ixy="0" ixz="0" iyy="1.4136e-04" iyz="0" izz="1.7892e-04"/>
    </inertial>
    <visual>
      <origin rpy="0 0 0" xyz="0 0.0 0.025"/>
      <geometry>
        <mesh filename="package://dp_ptu_46_description/meshes/pan.dae"/>
      </geometry>
    </visual>
    <collision>
      <origin xyz="0 0.0115 0.047"/>
      <geometry>
        <box size="0.154 0.177 0.094"/>
      </geometry>
    </collision>
  </link>

  <joint name="ptu_pan_joint" type="revolute">
    <parent link="ptu_base_link"/>
    <child link="ptu_tilt_link"/>
    <origin rpy="0 0 0" xyz="-0.00436 -0.0067 0.03"/>
    <limit effort="100.0" lower="-2.775" upper="2.775" velocity="1.0"/>
    <axis xyz="0 0 1"/>
  </joint>
  <link name="ptu_tilt_link">
    <inertial>
      <origin rpy="0 0 0" xyz="-0.03 0 0.05"/>
      <mass value="0.13"/>
      <!-- inretia tensor for solid cuboid: m=0.13, h=0.07, w=0.046, d=0.105 -->
      <inertia ixx="7.6006e-05" ixy="0" ixz="0" iyy="1.7252e-04" iyz="0" izz="1.4136e-04"/>
    </inertial>
    <visual>
      <origin rpy="0 0 0" xyz="0.00436 0.0067 0.0"/>
      <geometry>
        <mesh filename="package://dp_ptu_46_description/meshes/tilt.dae"/>
      </geometry>
    </visual>
    <collision>
      <origin xyz="0 0.0115 0.047"/>
      <geometry>
        <box size="0.154 0.177 0.094"/>
      </geometry>
    </collision>
  </link>

  <joint name="ptu_tilt_joint" type="revolute">
    <parent link="ptu_tilt_link"/>
    <child link="ptu_mount_link"/>
    <origin rpy="0 0 0" xyz="0.0 0 0.0659"/>
    <limit effort="100.0" lower="-1.396" upper="0.541" velocity="1.0"/>
    <axis xyz="0 -1 0"/>
  </joint>
  <link name="ptu_mount_link">
    <inertial>
      <origin rpy="0 0 0" xyz="0 0 0.036"/>
      <mass value="0.07"/>
      <!-- inretia tensor for solid cuboid: m=0.07, h=0.007, w=0.052, d=0.025 -->
      <inertia ixx="1.6059e-05" ixy="0" ixz="0" iyy="3.9316e-06" iyz="0" izz="1.9419e-05"/>
    </inertial>
    <visual>
      <origin rpy="0 0 0" xyz="0.00436 0.0067 -0.0659"/>
      <geometry>
        <mesh filename="package://dp_ptu_46_description/meshes/mount.dae"/>
      </geometry>
    </visual>
    <collision>
      <origin xyz="0 0.0115 0.047"/>
      <geometry>
        <box size="0.154 0.177 0.094"/>
      </geometry>
    </collision>
  </link>

  <!-- Hokuyo lidar -->

  <joint name="hokuyo_base_joint" type="fixed">
    <parent link="base_link"/>
    <child link="hokuyo_link"/>
    <origin rpy="0 0 0" xyz="0.1 0 0.3"/>
  </joint>
  <link name="hokuyo_link">
    <inertial>
      <origin rpy="0 0 0" xyz="0 0 -0.02"/>
      <mass value="0.13"/>
      <!-- inretia tensor for solid cuboid: m=0.13, h=0.07, w=0.05, d=0.05 -->
      <inertia ixx="8.0167e-05" ixy="0" ixz="0" iyy="8.0167e-05" iyz="0" izz="5.4167e-05"/>
    </inertial>
    <visual>
      <origin rpy="0 0 0" xyz="0 0 0"/>
      <geometry>
        <cylinder length="0.0265" radius="0.021"/>
      </geometry>
      <material name="blackish"/>
    </visual>
    <visual>
      <origin rpy="0 0 0" xyz="0 0 -0.034"/>
      <geometry>
        <box size="0.05 0.05 0.041"/>
      </geometry>
      <material name="blackish"/>
    </visual>
    <collision>
      <origin rpy="0 0 0" xyz="0 0 0"/>
      <geometry>
        <cylinder length="0.0265" radius="0.021"/>
      </geometry>
    </collision>
    <collision>
      <origin rpy="0 0 0" xyz="0 0 -0.047"/>
      <geometry>
        <box size="0.05 0.05 0.041"/>
      </geometry>
    </collision>
  </link>

  <!-- Bumblebee 2 -->

  <joint name="bumblebee_joint" type="fixed">
    <parent link="ptu_mount_link"/>
    <child link="bumblebee_link"/>
    <origin rpy="0 0 0" xyz="0 0 0.058"/>
  </joint>
  <link name="bumblebee_link">
    <inertial>
      <origin rpy="0 0 0" xyz="0 0 0"/>
      <mass value="0.342"/>
      <!-- inretia tensor for solid cuboid: m=0.342, h=0.036, w=0.157, d=0.0474 -->
      <inertia ixx="7.3943e-04" ixy="0" ixz="0" iyy="1.0096e-04" iyz="0" izz="7.6653e-04"/>
    </inertial>
    <visual>
      <origin rpy="0 0 0" xyz="0 0 0"/>
      <geometry>
        <box size="0.047 0.157 0.038"/>
      </geometry>
      <material name="golden">
        <color rgba="0.4 0.4 0.1 1"/>
      </material>
    </visual>
  </link>

  <joint name="bumblebee_cameras_joint" type="fixed">
    <parent link="bumblebee_link"/>
    <child link="bumblebee_cameras_link"/>
    <origin rpy="0 0 0" xyz="0 0 0.0"/>
  </joint>
  <link name="bumblebee_cameras_link">
    <visual>
      <origin rpy="0 1.5708 0" xyz="0.024 0.06 0"/>
      <geometry>
        <cylinder length="0.001" radius="0.011"/>
      </geometry>
      <material name="glass">
        <color rgba="1 1 1 0.2"/>
      </material>
    </visual>
    <visual>
      <origin rpy="0 1.5708 0" xyz="0.024 -0.06 0"/>
      <geometry>
        <cylinder length="0.001" radius="0.011"/>
      </geometry>
      <material name="glass"/>
    </visual>
  </link>

  <!-- Asus Xtion Pro Live -->

  <joint name="xtion_joint" type="fixed">
    <parent link="bumblebee_link"/>
    <child link="xtion_link"/>
    <origin rpy="0 0 0" xyz="0 0 0.055"/>
  </joint>
  <link name="xtion_link">
    <inertial>
      <origin rpy="0 0 0" xyz="0 0 0"/>
      <mass value="0.54"/>
      <!-- inretia tensor for solid cuboid: m=0.54, h=0.034, w=0.18, d=0.034 -->
      <inertia ixx="1.51e-03" ixy="0" ixz="0" iyy="1.0404e-04" iyz="0" izz="1.51e-03"/>
    </inertial>
    <visual>
      <origin rpy="0 0 0" xyz="0 0 0"/>
      <geometry>
        <box size="0.036 0.178 0.03"/>
      </geometry>
      <material name="blackish"/>
    </visual>
    <visual>
      <origin rpy="0 0 0" xyz="0 0 -0.025"/>
      <geometry>
        <box size="0.02 0.017 0.02"/>
      </geometry>
      <material name="blackish"/>
    </visual>
    <visual>
      <origin rpy="0 0 0" xyz="0 0 -0.035"/>
      <geometry>
        <box size="0.04 0.1 0.004"/>
      </geometry>
      <material name="blackish"/>
    </visual>
  </link>

  <gazebo>
    <plugin name="gazebo_ros_control" filename="libgazebo_ros_control.so">
		<publish_tf>1</publish_tf>
		<robotNamespace>/</robotNamespace>
		<robotSimType>gazebo_ros_control/DefaultRobotHWSim</robotSimType>
		<legacyModeNS>true</legacyModeNS>
	
	</plugin>
	
	<plugin name="joint_state_publisher" filename="libgazebo_ros_joint_state_publisher.so"> 
      <updateRate>50</updateRate>
    </plugin>   
	
  </gazebo>  
  
  <gazebo>
    <plugin filename="libgazebo_ros_diff_drive.so" name="differential_drive_controller">
      <alwaysOn>true</alwaysOn>
      <updateRate>50</updateRate>
      <leftJoint>wheel_left_joint</leftJoint>
      <rightJoint>wheel_right_joint</rightJoint>
      <wheelSeparation>0.44</wheelSeparation>
      <wheelDiameter>0.19</wheelDiameter>
      <torque>0.1</torque>
      <commandTopic>cmd_vel</commandTopic>
      <odometryTopic>odom</odometryTopic>
      <odometryFrame>odom</odometryFrame>
      <robotBaseFrame>base_link</robotBaseFrame>
	  <legacyMode>false</legacyMode>
    </plugin>
  </gazebo>

</robot>
